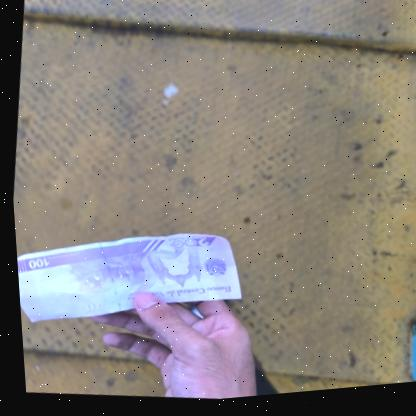one_hundred-back-vef: (12, 209, 246, 348)
